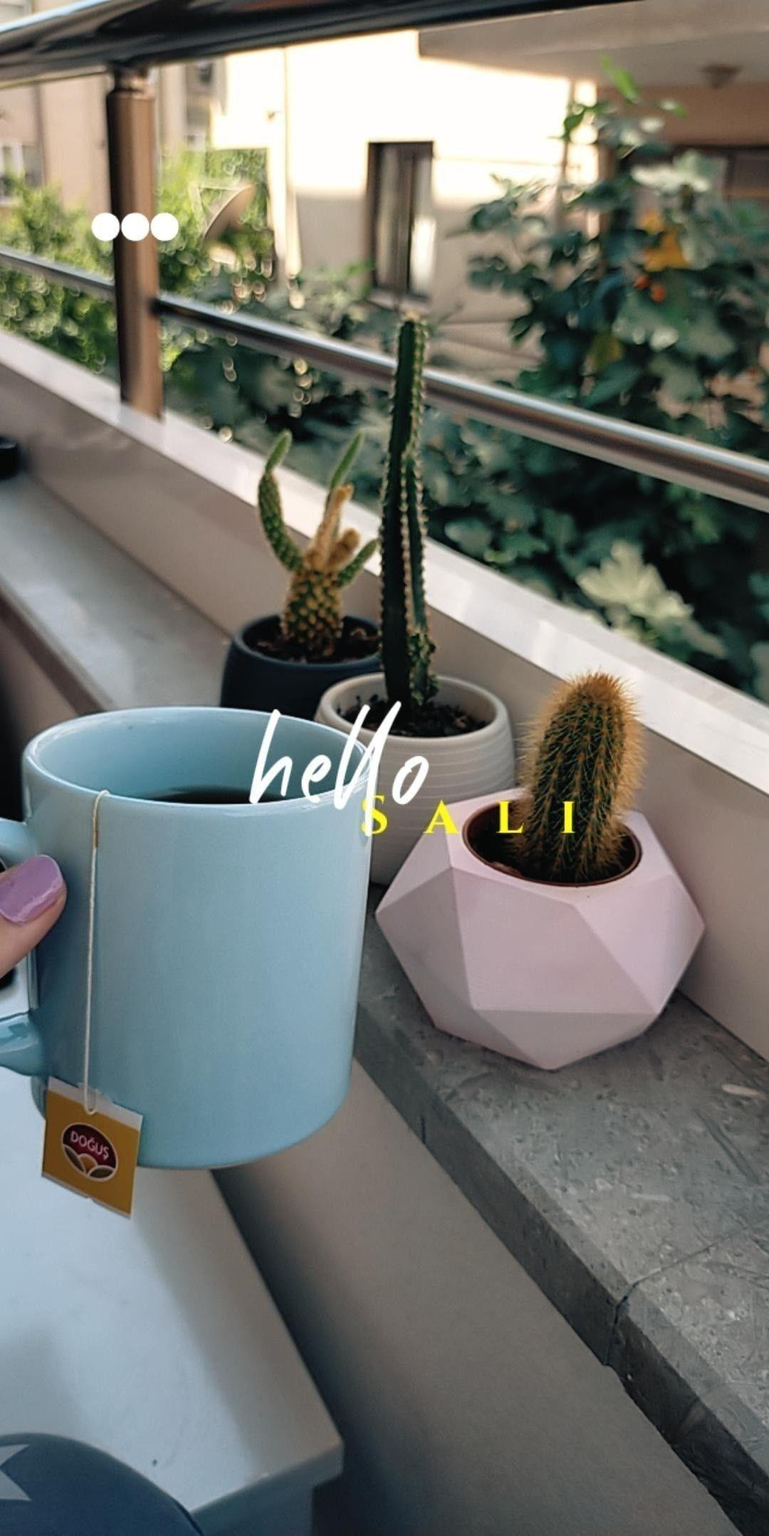cup-handle: (0, 703, 378, 1177)
